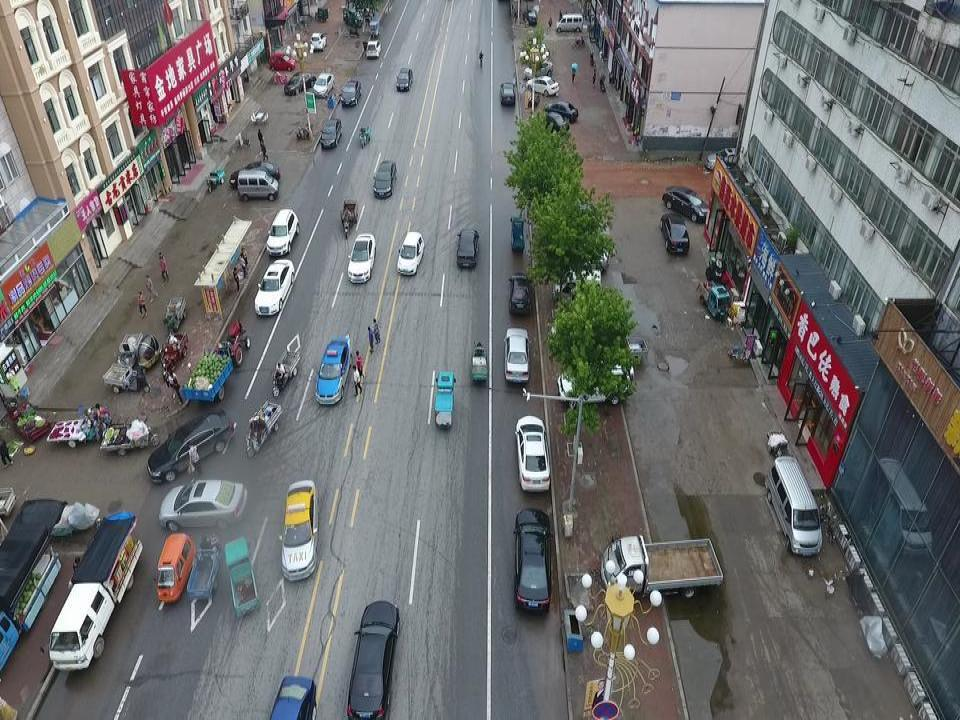car: (145, 408, 234, 485), (346, 598, 399, 720), (157, 476, 249, 532), (511, 505, 555, 616), (277, 479, 319, 582), (556, 363, 631, 408), (513, 415, 552, 493), (312, 336, 353, 407), (547, 315, 615, 356), (253, 259, 295, 317), (268, 674, 319, 720), (662, 184, 713, 223), (553, 241, 611, 275), (265, 208, 301, 256), (502, 328, 532, 381), (228, 160, 280, 188), (659, 212, 691, 256), (395, 231, 425, 276), (508, 271, 533, 316), (704, 146, 750, 170), (455, 227, 480, 268), (372, 160, 397, 200), (534, 110, 571, 134), (284, 69, 316, 96), (542, 100, 579, 123), (319, 118, 344, 150), (525, 76, 561, 96), (340, 79, 362, 108), (311, 71, 335, 97), (523, 60, 554, 79), (268, 52, 296, 72), (395, 67, 414, 92), (348, 4, 376, 20), (499, 82, 516, 106), (362, 38, 382, 58), (310, 30, 327, 50)
truck: (46, 514, 143, 673), (598, 534, 725, 602)
van: (765, 455, 824, 558), (155, 531, 196, 605), (553, 268, 603, 308), (236, 168, 280, 201), (553, 12, 584, 33), (342, 5, 363, 28)
